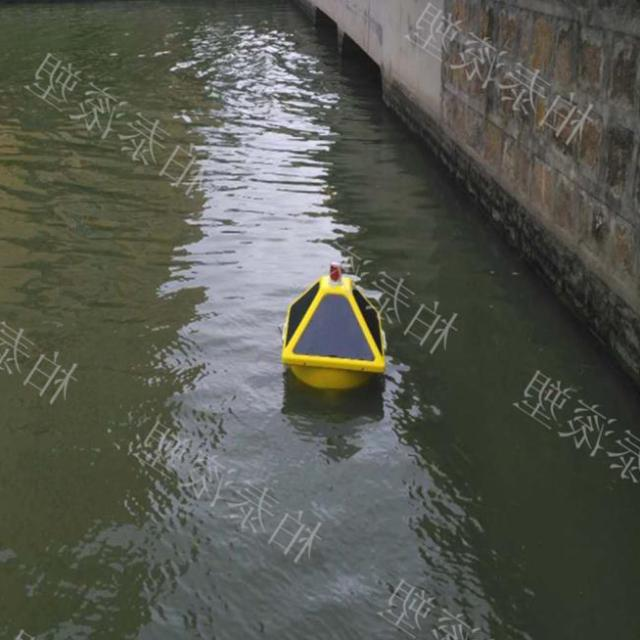buoy: (276, 260, 388, 389)
